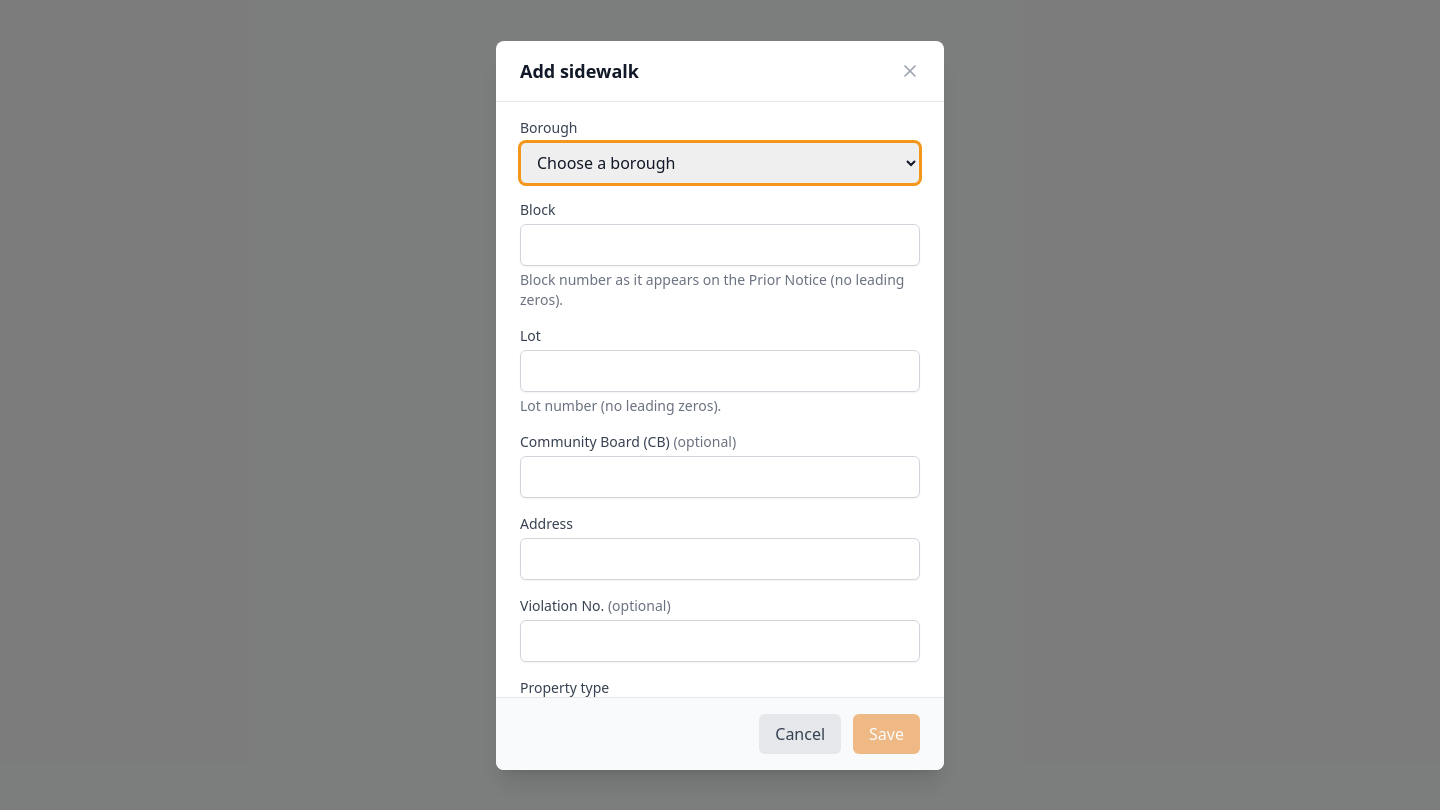
Test: PropertyFormModal — adding a sidewalk › drops leading zeros from the block and lot when they lose focus, keeping a zero as 0
Type "00123" into the field labelled "Block" at (720, 244), box [520,224,920,266]
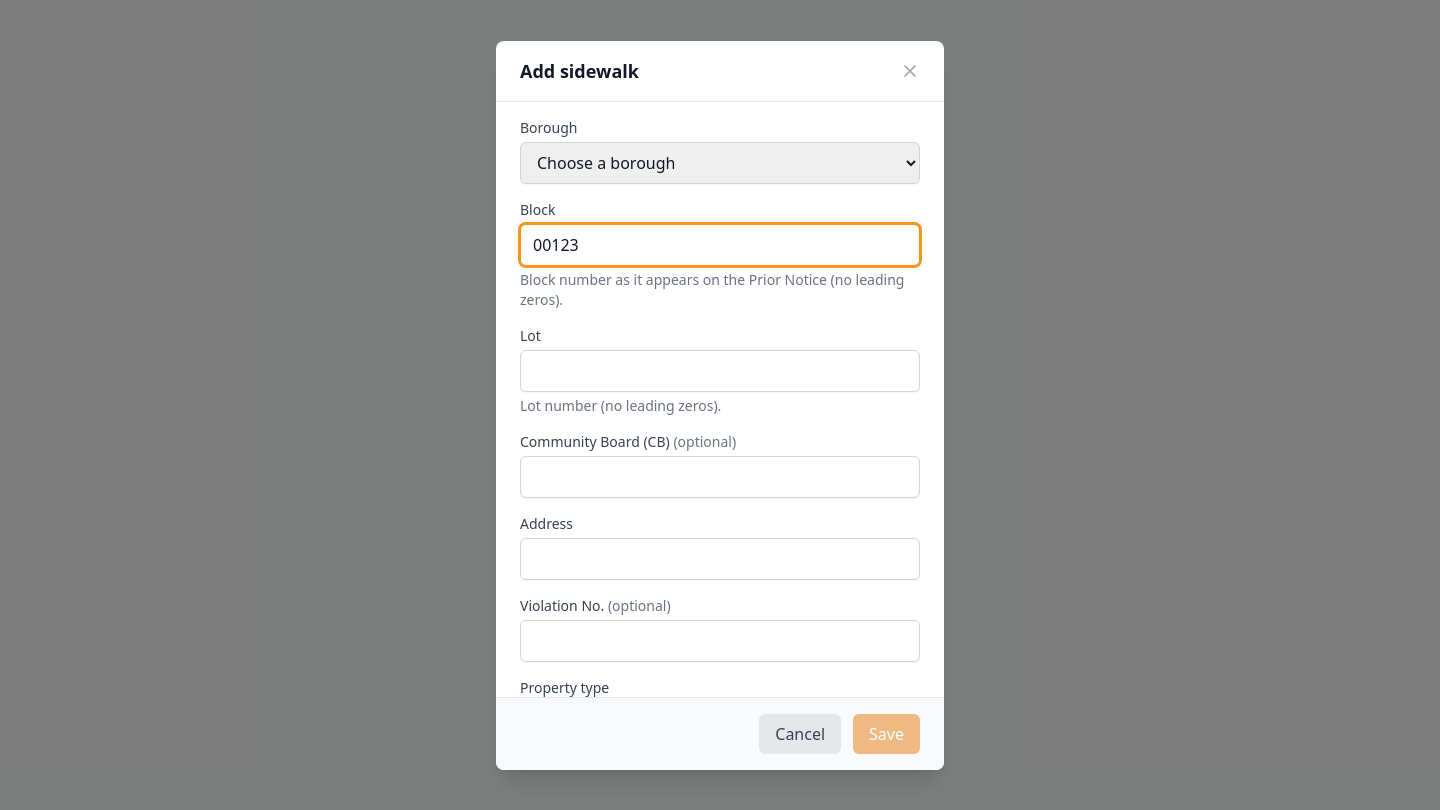
Type "0000" into the field labelled "Lot" at (720, 370), box [520,350,920,392]
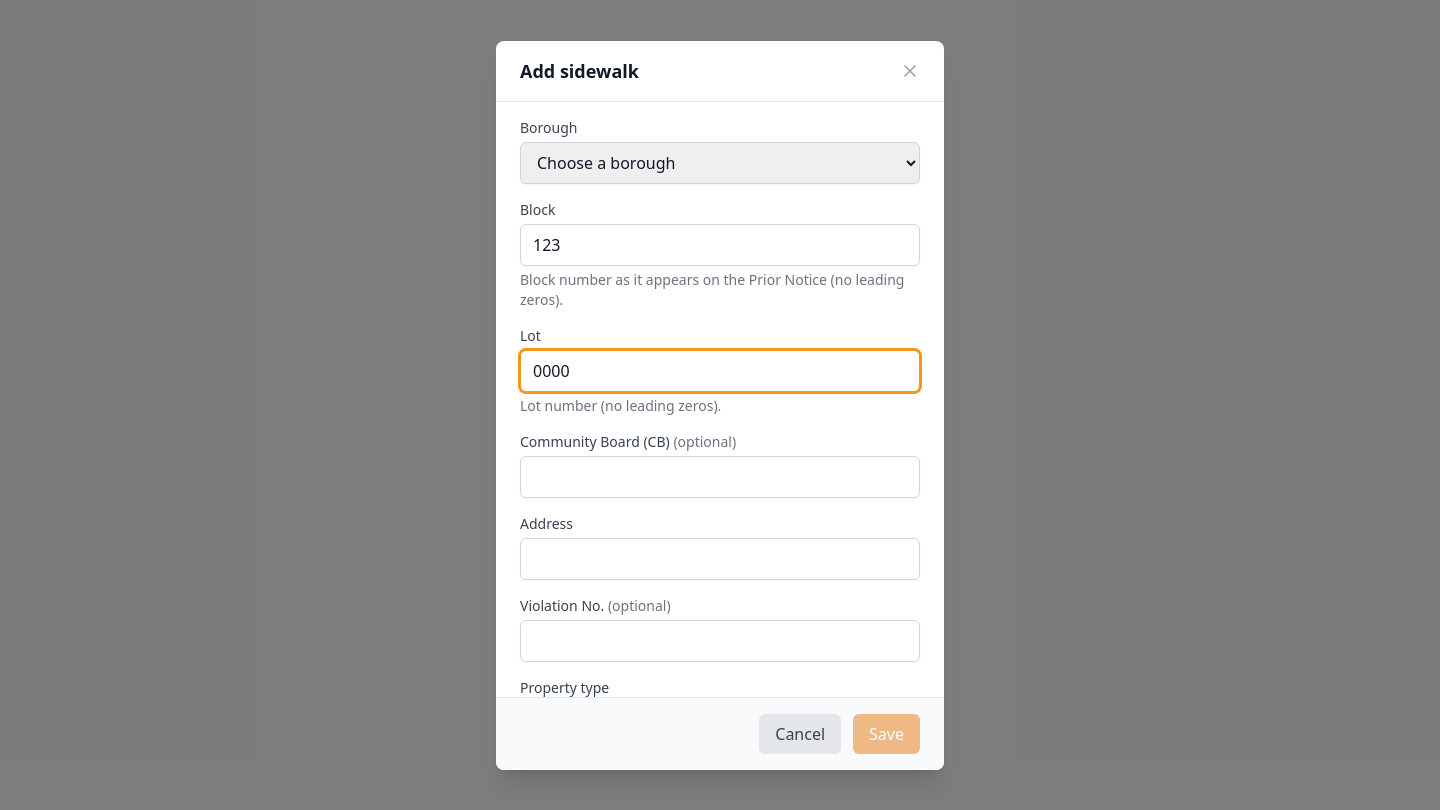
Now the field labelled "Block" holds "123", box [520,224,920,266]
Press Tab
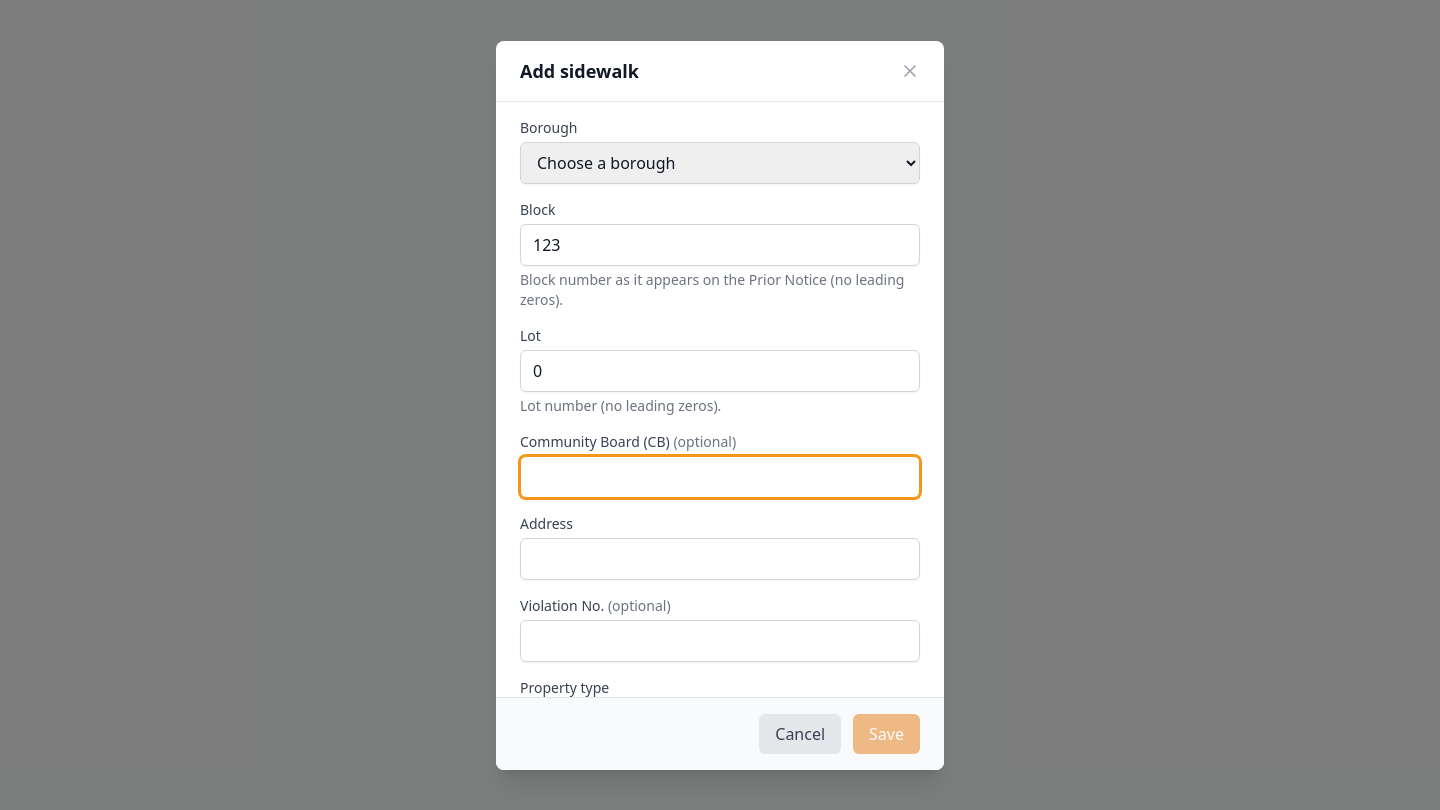
Now the field labelled "Lot" holds "0", box [520,350,920,392]
